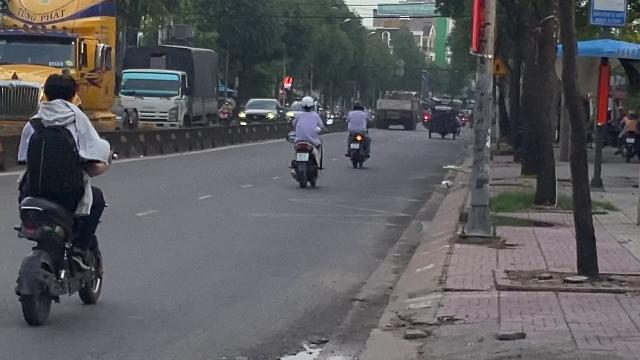motorcyclist: (5, 67, 114, 330)
nohelmet: (38, 73, 78, 109)
